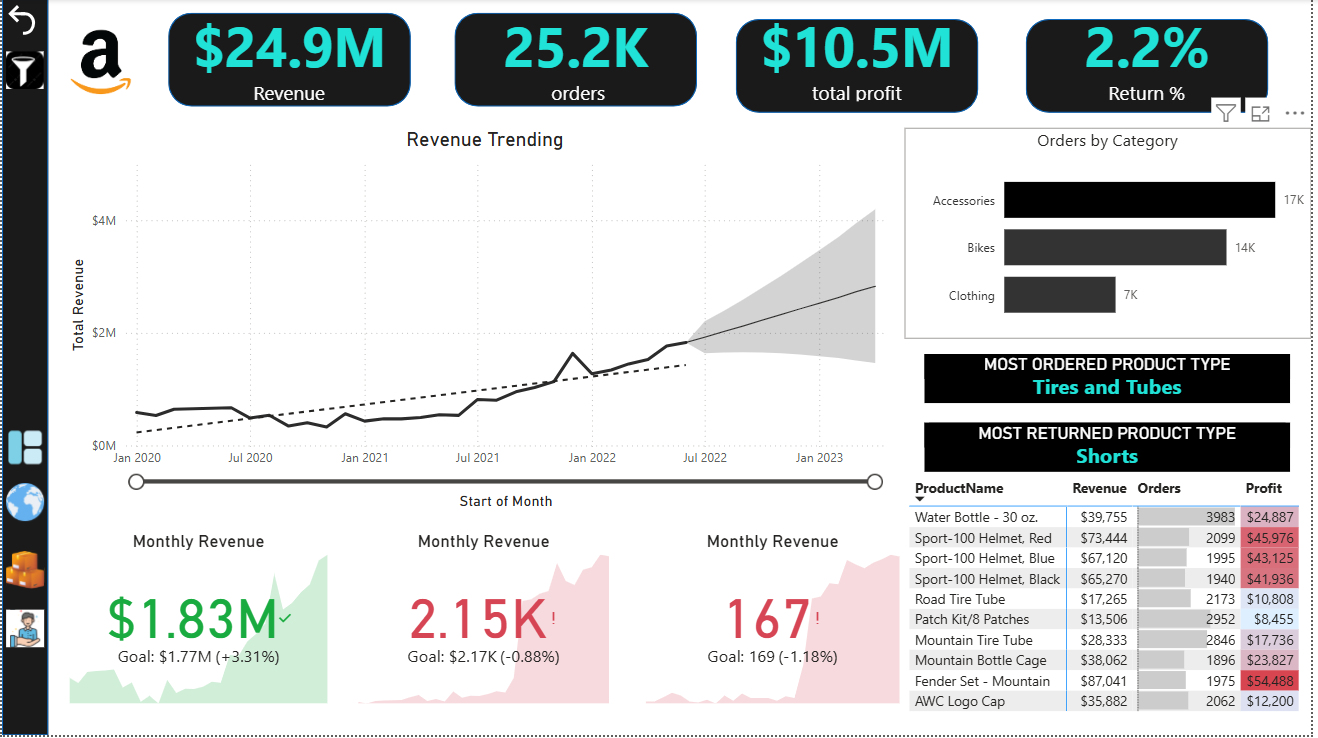

Layout of this report page (visuals, bound fields, positions):
{"tool":"powerbi","page":{"name":"Exac Dash","canvas":[1280,720],"ordinal":0},"visuals":[{"type":"card","fields":{"Values":["Tables Measures.total rev"]},"box":[162.6,7.3,237.2,97.8],"z":0,"group":"g2"},{"type":"shape","box":[162.6,13.4,237.2,91.7],"z":0,"group":"g1"},{"type":"image","box":[47.7,13.5,97.8,97.8],"z":0},{"type":"actionButton","box":[0,409.6,45.2,57.5],"z":0,"group":"g3"},{"type":"shape","box":[0,0,45.2,720.2],"z":1000},{"type":"card","fields":{"Values":["Tables Measures.total profit"]},"box":[717.8,7.3,237.2,97.8],"z":1000,"group":"g2"},{"type":"shape","box":[442.6,13.4,237.2,91.7],"z":1000,"group":"g1"},{"type":"actionButton","box":[0,467.1,45.2,50.1],"z":1000,"group":"g3"},{"type":"group","id":"g1","title":"Group 2","box":[162.6,7.3,1076.1,103.9],"z":2000},{"type":"card","fields":{"Values":["Tables Measures.return rate"]},"box":[1001.5,7.3,237.2,97.8],"z":2000,"group":"g2"},{"type":"shape","box":[717.8,19.5,237.2,91.7],"z":2000,"group":"g1"},{"type":"actionButton","box":[0,529.4,45.2,57.5],"z":2000,"group":"g3"},{"type":"card","fields":{"Values":["Tables Measures.total orders"]},"box":[442.6,7.3,237.2,97.8],"z":3000,"group":"g2"},{"type":"shape","box":[1001.5,19.5,237.2,91.7],"z":3000,"group":"g1"},{"type":"lineChart","title":"Revenue Trending","fields":{"Y":["Tables Measures.total rev"],"Category":["Rolling Calender.Date Hierarchy.Start of Year","Rolling Calender.Date Hierarchy.Start of Month","Rolling Calender.Date Hierarchy.Start of Week","Rolling Calender.Date Hierarchy.Date"]},"box":[60.6,125.5,822.4,378],"z":3000},{"type":"actionButton","box":[0,586.9,45.2,57.5],"z":3000,"group":"g3"},{"type":"group","id":"g2","title":"Group 1","box":[162.6,7.3,1076.1,97.8],"z":4000,"group":"g1"},{"type":"kpi","title":"Monthly Revenue","fields":{"Indicator":["Tables Measures.total rev"],"TrendLine":["Rolling Calender.Start of Month"],"Goal":["Tables Measures.previous month rev"]},"box":[60.6,519.4,262.6,174.6],"z":4000},{"type":"kpi","title":"Monthly Revenue","fields":{"TrendLine":["Rolling Calender.Start of Month"],"Goal":["Tables Measures.previous month orders"],"Indicator":["Tables Measures.total orders"]},"box":[343.4,519.4,255.4,174.6],"z":5000},{"type":"kpi","title":"Monthly Revenue","fields":{"TrendLine":["Rolling Calender.Start of Month"],"Indicator":["Tables Measures.total return qty"],"Goal":["Tables Measures.previuos month returns"]},"box":[624.7,519.4,258.3,174.6],"z":6000},{"type":"barChart","title":"Orders by Category","fields":{"Category":["Product Categories Lookup.CategoryName"],"Y":["Tables Measures.total orders"]},"box":[882.9,126,397.4,206.7],"z":7000},{"type":"pivotTable","fields":{"Rows":["Product Categories Lookup.CategoryName","Product Lookup.ProductName"],"Values":["Tables Measures.total rev","Tables Measures.total orders","Tables Measures.total profit"]},"box":[882.9,462.2,397.4,258],"z":8000},{"type":"card","title":"MOST ORDERED PRODUCT TYPE","fields":{"Values":["Min(Product Subcategories Lookup.SubcategoryName)"]},"box":[902.4,347.1,357.7,48.1],"z":9000},{"type":"card","title":"MOST RETURNED PRODUCT TYPE","fields":{"Values":["Min(Product Subcategories Lookup.SubcategoryName)"]},"box":[902.4,414.7,357.7,48.1],"z":10000},{"type":"actionButton","box":[0,0,39.1,40.4],"z":11000},{"type":"group","id":"g3","title":"Group 1","box":[0,409.6,45.2,234.8],"z":12000},{"type":"actionButton","box":[0,46.2,44.7,46.2],"z":13000}]}

Visuals, with their boxes on the page's 1280x720 design canvas (x1, y1, x2, y2). These are canvas units, not pixel positions in the 1318x738 screenshot, which may show the page scaled, cropped or inside an application window:
card - Tables Measures.total rev: detection(163, 7, 400, 105)
shape: detection(163, 13, 400, 105)
image: detection(48, 14, 146, 111)
actionButton: detection(0, 410, 45, 467)
shape: detection(0, 0, 45, 720)
card - Tables Measures.total profit: detection(718, 7, 955, 105)
shape: detection(443, 13, 680, 105)
actionButton: detection(0, 467, 45, 517)
"Group 2" group: detection(163, 7, 1239, 111)
card - Tables Measures.return rate: detection(1002, 7, 1239, 105)
shape: detection(718, 20, 955, 111)
actionButton: detection(0, 529, 45, 587)
card - Tables Measures.total orders: detection(443, 7, 680, 105)
shape: detection(1002, 20, 1239, 111)
"Revenue Trending" lineChart: detection(61, 126, 883, 504)
actionButton: detection(0, 587, 45, 644)
"Group 1" group: detection(163, 7, 1239, 105)
"Monthly Revenue" kpi: detection(61, 519, 323, 694)
"Monthly Revenue" kpi: detection(343, 519, 599, 694)
"Monthly Revenue" kpi: detection(625, 519, 883, 694)
"Orders by Category" barChart: detection(883, 126, 1280, 333)
pivotTable - Product Categories Lookup.CategoryName x Product Lookup.ProductName: detection(883, 462, 1280, 720)
"MOST ORDERED PRODUCT TYPE" card: detection(902, 347, 1260, 395)
"MOST RETURNED PRODUCT TYPE" card: detection(902, 415, 1260, 463)
actionButton: detection(0, 0, 39, 40)
"Group 1" group: detection(0, 410, 45, 644)
actionButton: detection(0, 46, 45, 92)
